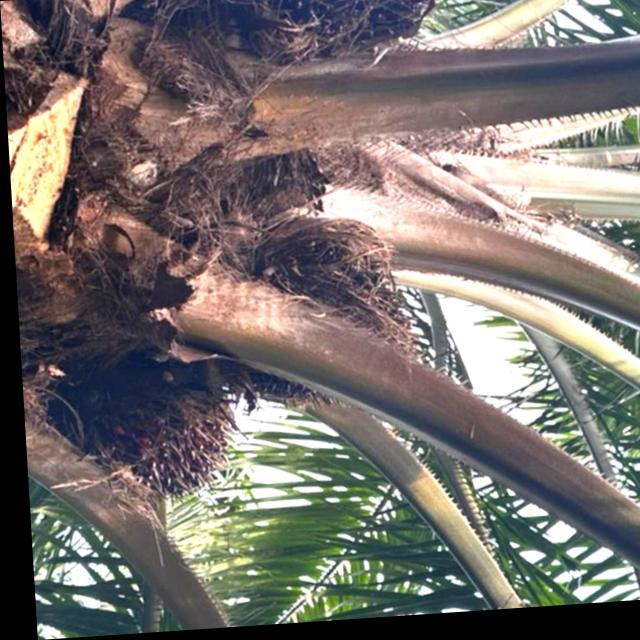unripe: (216, 203, 432, 425)
